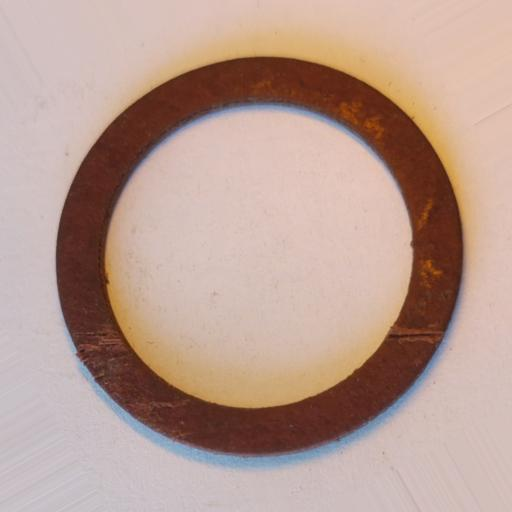defect: (71, 327, 193, 446), (384, 327, 446, 341)
